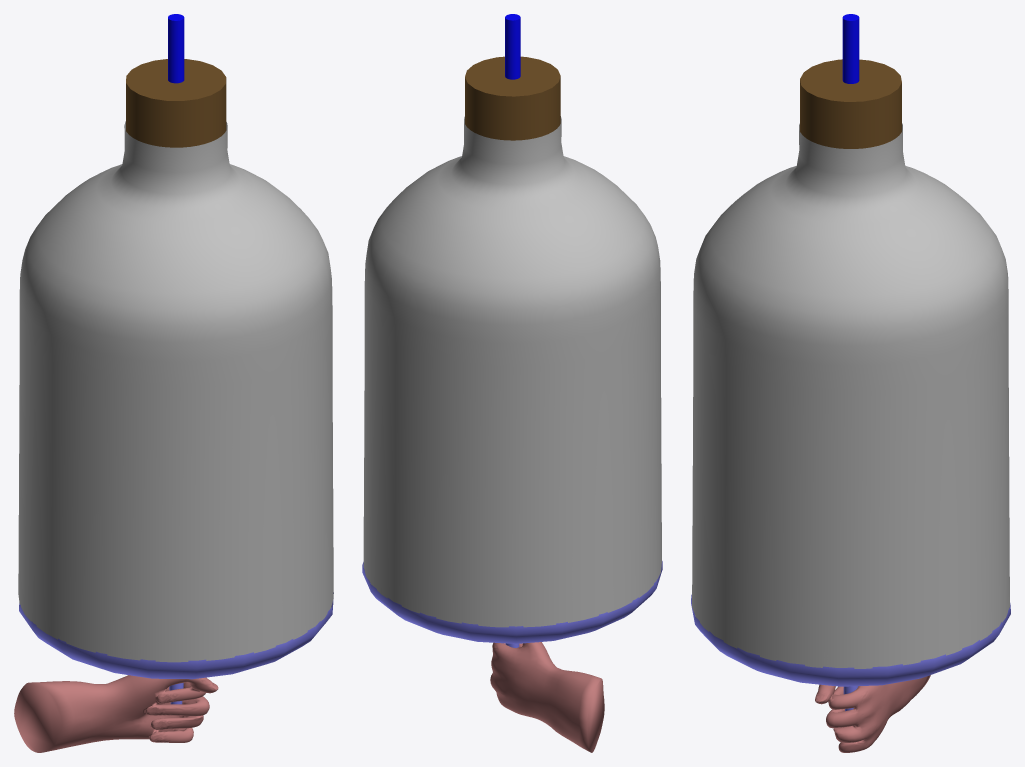
The picture shows the model from 3 angles, left to right: view 1: azimuth 30°, elevation 25°; view 2: azimuth 150°, elevation 25°; view 3: azimuth 270°, elevation 25°; orthographic projection. The views are drawn at different scales.
Visible parts, largest first — view 1: breathing:polySurface1, hand:polySurface1Ch43, breathing:pCylinder2, breathing:pSphere3, breathing:pCylinder3; view 2: breathing:polySurface1, hand:polySurface1Ch43, breathing:pCylinder2, breathing:pSphere3, breathing:pCylinder3; view 3: breathing:polySurface1, breathing:pCylinder2, breathing:pSphere3, hand:polySurface1Ch43, breathing:pCylinder3.
Part boxes in pixels (bbox=[...]): breathing:polySurface1: bbox=[18, 121, 333, 662]; hand:polySurface1Ch43: bbox=[14, 675, 218, 752]; breathing:pCylinder2: bbox=[126, 59, 226, 147]; breathing:pSphere3: bbox=[19, 592, 333, 704]; breathing:pCylinder3: bbox=[168, 14, 184, 83]; breathing:polySurface1: bbox=[363, 116, 661, 627]; hand:polySurface1Ch43: bbox=[490, 642, 604, 752]; breathing:pCylinder2: bbox=[465, 56, 560, 140]; breathing:pSphere3: bbox=[362, 561, 662, 647]; breathing:pCylinder3: bbox=[505, 14, 520, 79]; breathing:polySurface1: bbox=[692, 123, 1009, 668]; breathing:pCylinder2: bbox=[800, 59, 901, 148]; breathing:pSphere3: bbox=[691, 594, 1010, 711]; hand:polySurface1Ch43: bbox=[815, 675, 930, 752]; breathing:pCylinder3: bbox=[842, 14, 859, 83].
Size of what is drawn, in the model's own units: 0.6483 by 1.64 by 0.6483.
